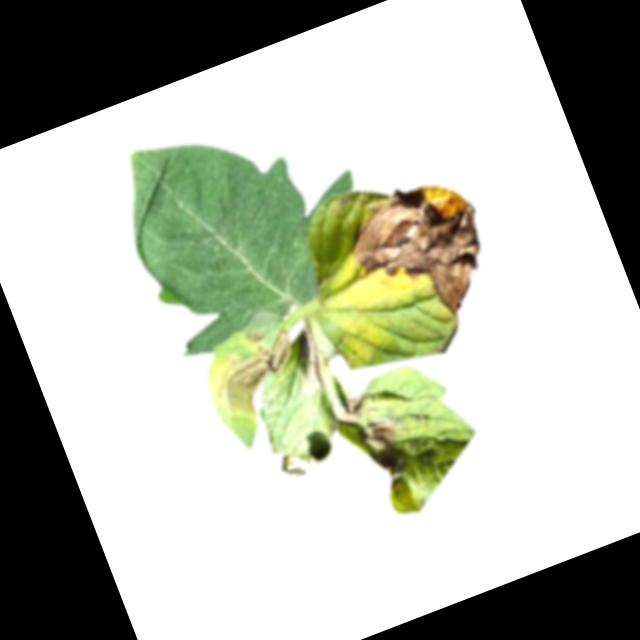Late_blight: (333, 167, 506, 343), (199, 325, 313, 426), (352, 407, 420, 497), (281, 319, 335, 398), (325, 389, 375, 431), (277, 446, 320, 485), (242, 326, 267, 347)
healthy: (101, 80, 394, 368)
